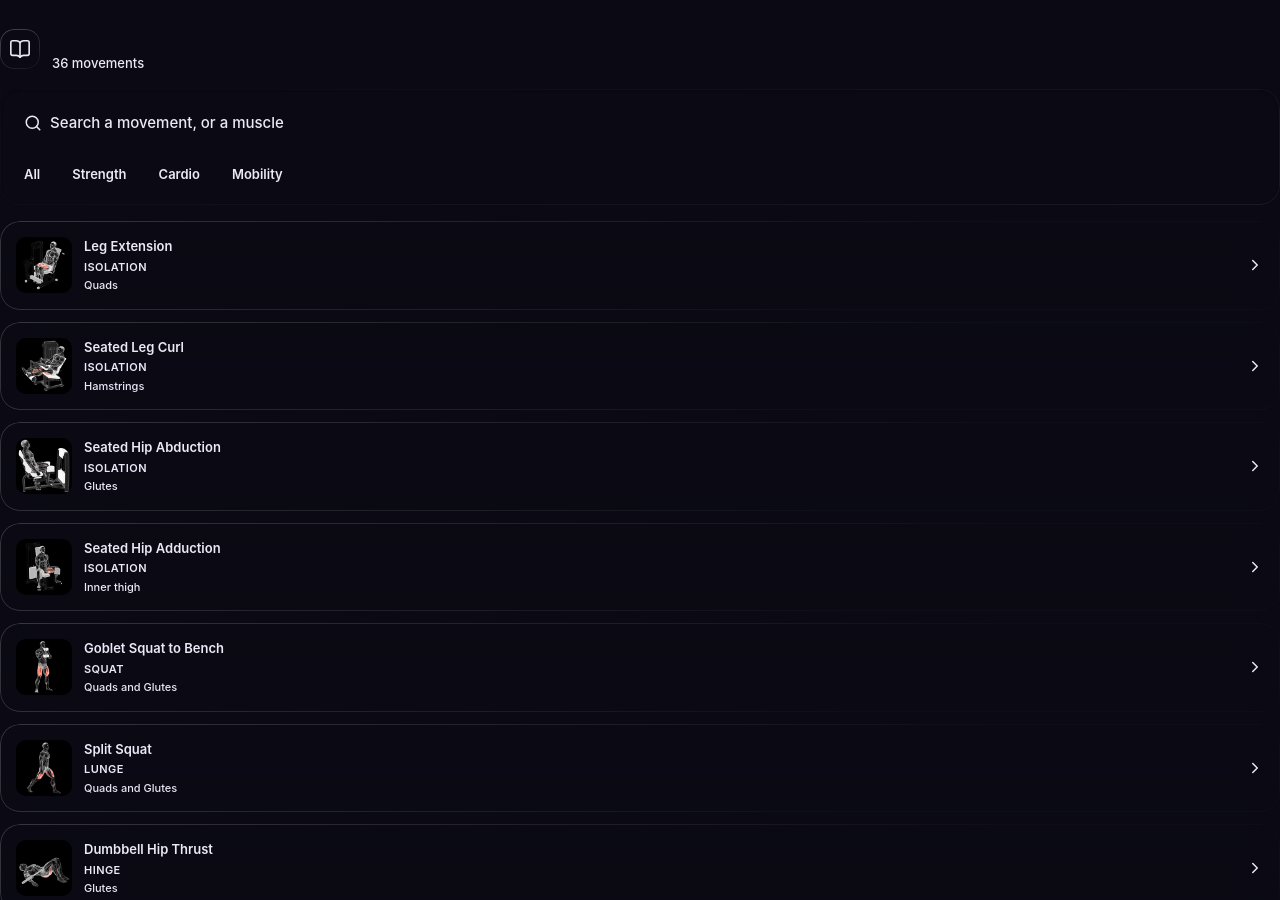
Test case: searching › says so rather than showing an empty page when nothing matches
Type "zzzznotamovement" into the search field at [653, 123], box [50,112,1256,134]
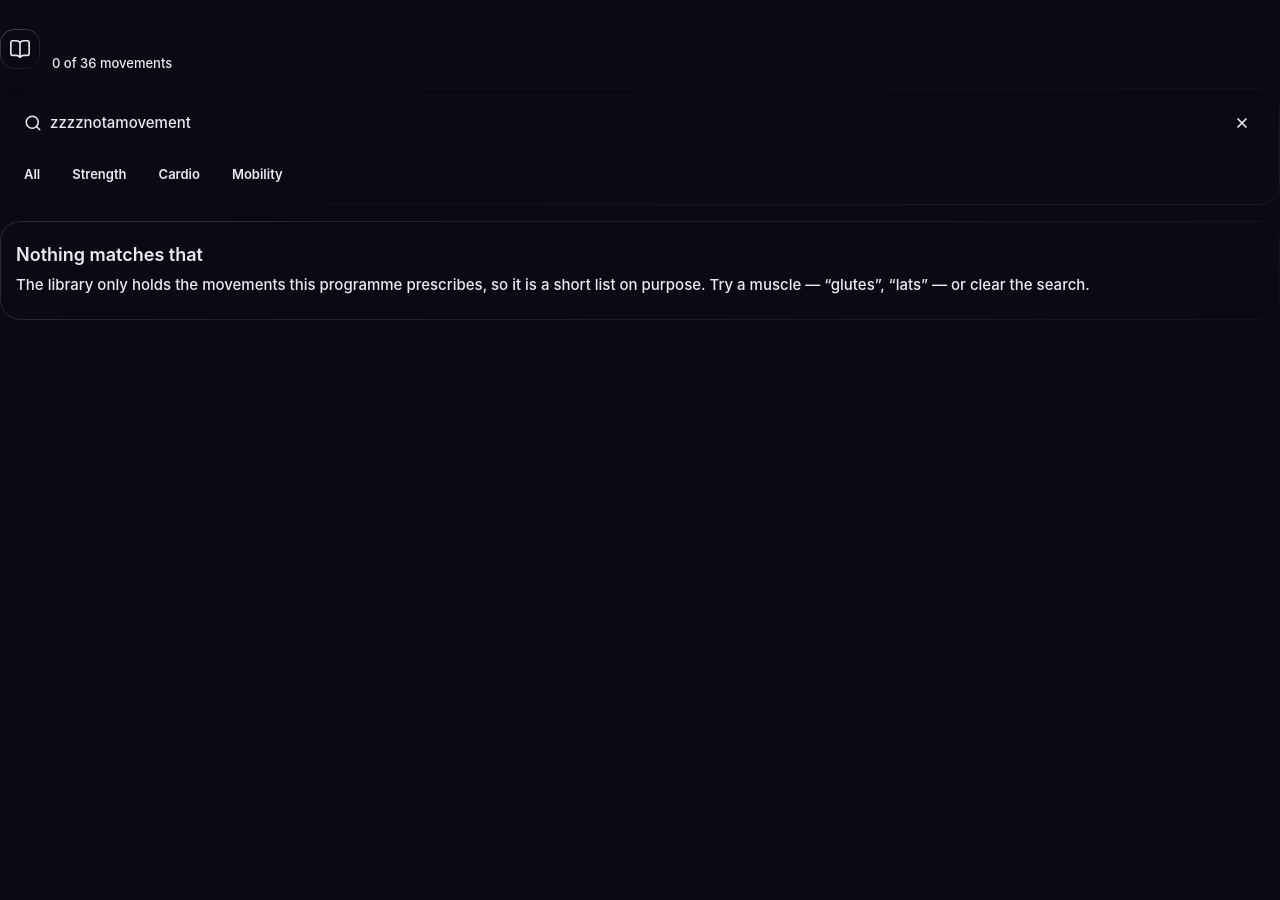
Now the heading "Nothing matches that" is shown, box [16,244,203,265]
